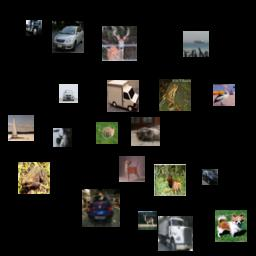automobile: (82, 189, 120, 227), (52, 21, 84, 53), (59, 84, 78, 103), (202, 169, 218, 185)
bird: (213, 84, 235, 106)
cat: (131, 117, 160, 146), (96, 122, 118, 144)
deer: (102, 26, 137, 61), (154, 164, 186, 196), (53, 128, 72, 147), (138, 211, 157, 230)
dog: (215, 210, 247, 242), (119, 156, 145, 182)
frog: (18, 162, 50, 194), (159, 79, 191, 111)
ship: (8, 115, 34, 141), (183, 31, 209, 57)
truck: (158, 216, 193, 251), (107, 80, 139, 112), (26, 20, 42, 36)
